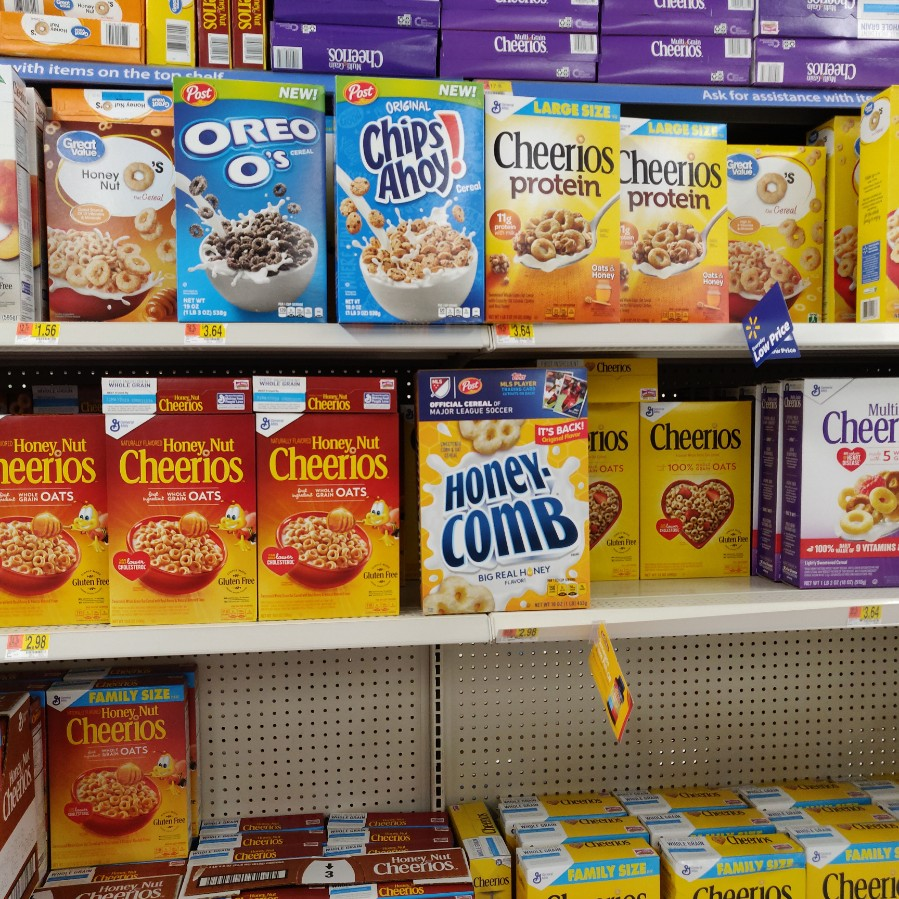Chips Ahoys-565717529: (330, 72, 487, 320)
Honey Comb- 009288857: (417, 369, 586, 608)
Oreo-563424384: (176, 79, 329, 318)
